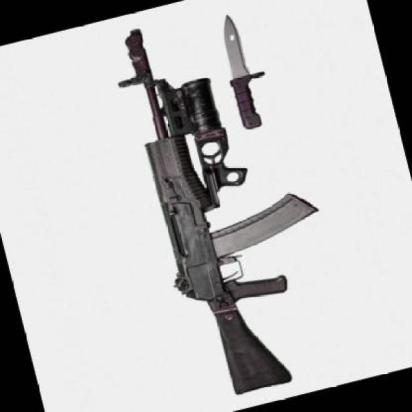Gun: (99, 7, 354, 411)
